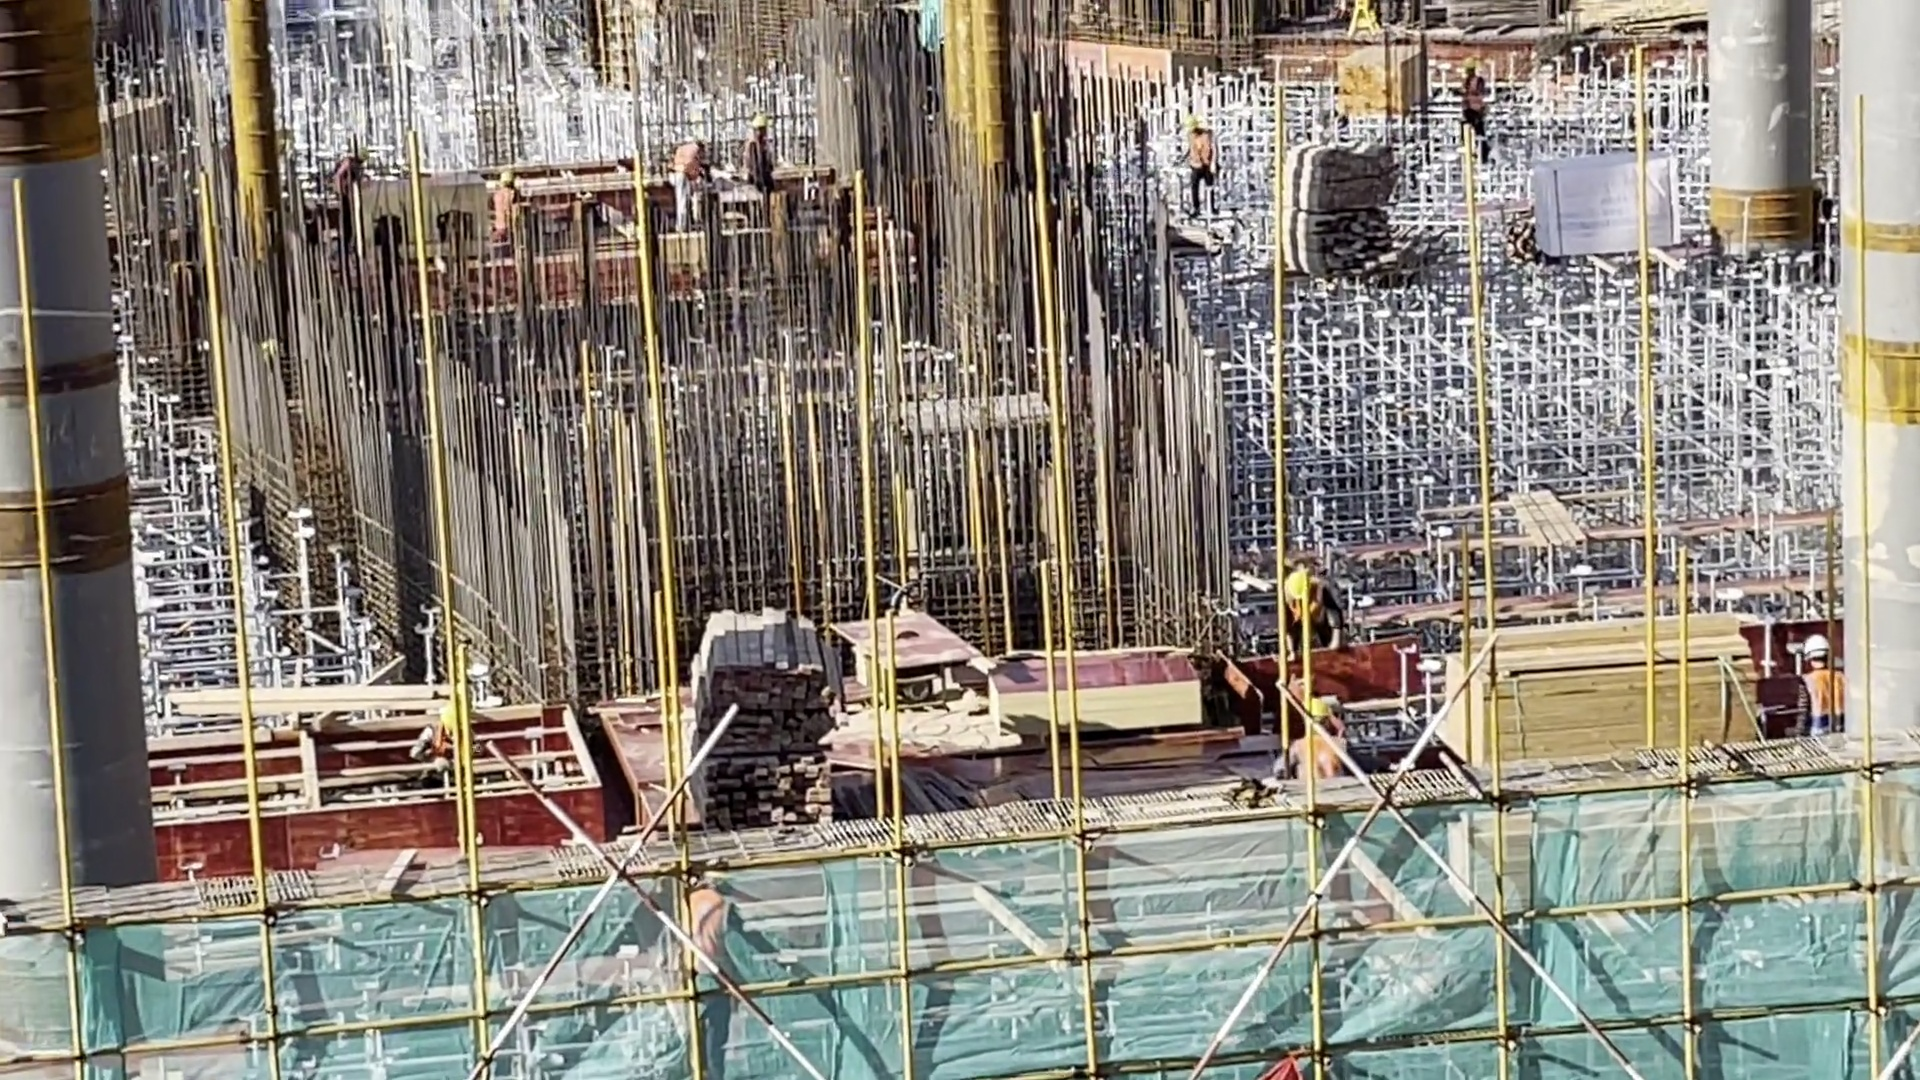helmet: (1282, 564, 1325, 602), (1301, 690, 1337, 730), (1800, 631, 1837, 663)
person: (1269, 567, 1358, 658), (1275, 687, 1364, 778), (1789, 634, 1856, 749)
vest: (1801, 669, 1849, 735), (1291, 730, 1342, 779), (1283, 589, 1325, 626)
